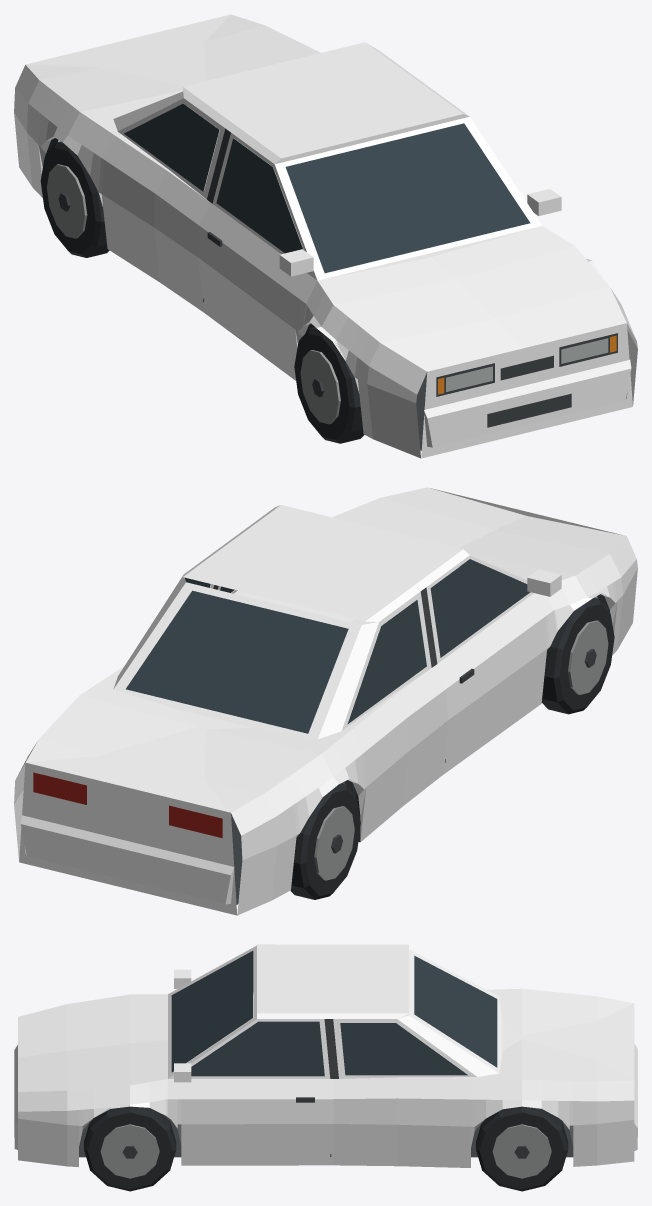
File: garrison_tumbleweed.glb
The picture shows the model from 3 angles, top to bottom: view 1: azimuth 30°, elevation 25°; view 2: azimuth 150°, elevation 25°; view 3: azimuth 270°, elevation 25°; orthographic projection. The views are drawn at different scales.
Visible parts, largest first — view 1: garrison_tumbleweed; view 2: garrison_tumbleweed; view 3: garrison_tumbleweed.
Boxes of the visible parts, left/top/right/bottom form: garrison_tumbleweed: left=14, top=14, right=637, bottom=458; garrison_tumbleweed: left=14, top=487, right=637, bottom=915; garrison_tumbleweed: left=14, top=944, right=637, bottom=1191.
Bounding box in the file's own units: 1.69 × 1.24 × 4.28.
8 materials, 1 textured.
